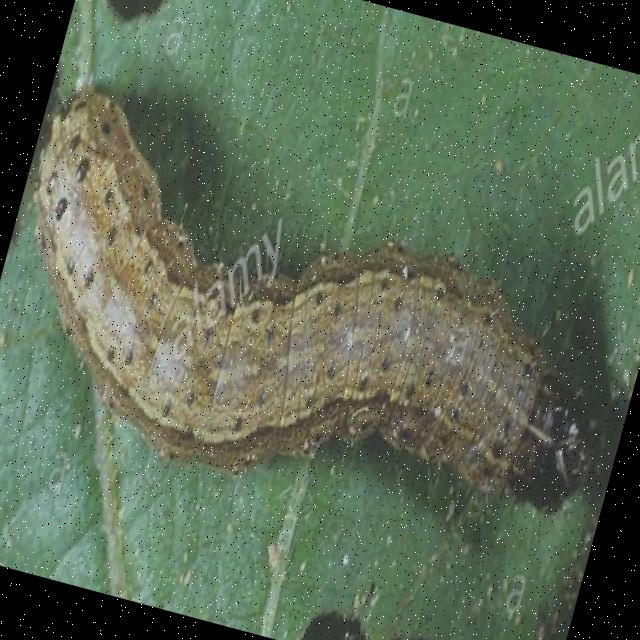worm: (1, 74, 640, 570)
